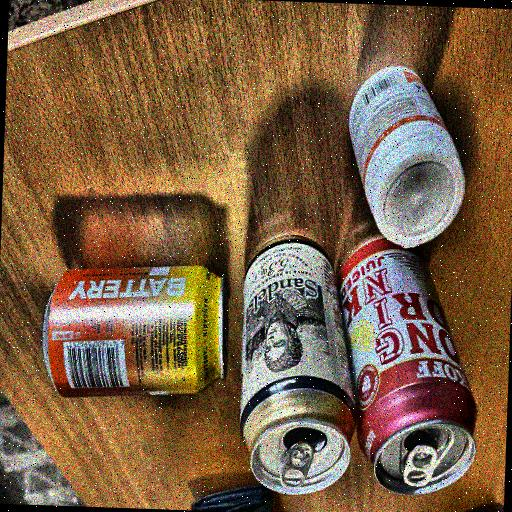koff: (337, 236, 483, 508)
sandels: (234, 232, 359, 500)
